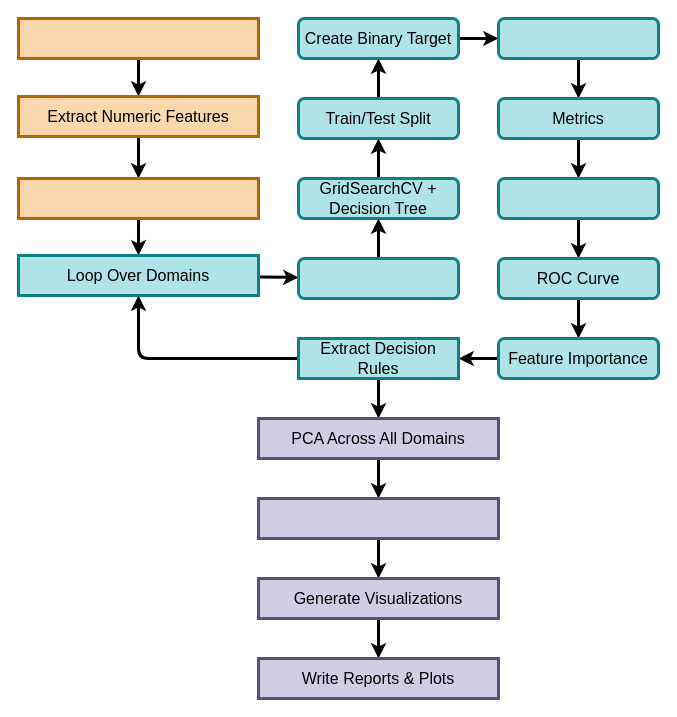
This 677x717 diagram has some shape labels left out. The shapes that lost their labels are listed below. From the top down, each one's box as (x1, y1, x2, y2) in pixels, then its label:
(16, 16, 260, 60): Load Domain-Labeled CSV
(496, 16, 660, 60): Predict on Test
(16, 176, 260, 220): Drop Missing Rows
(496, 176, 660, 220): Confusion Matrix
(296, 256, 460, 300): Select Best Model
(256, 496, 500, 540): Similarity Analysis
